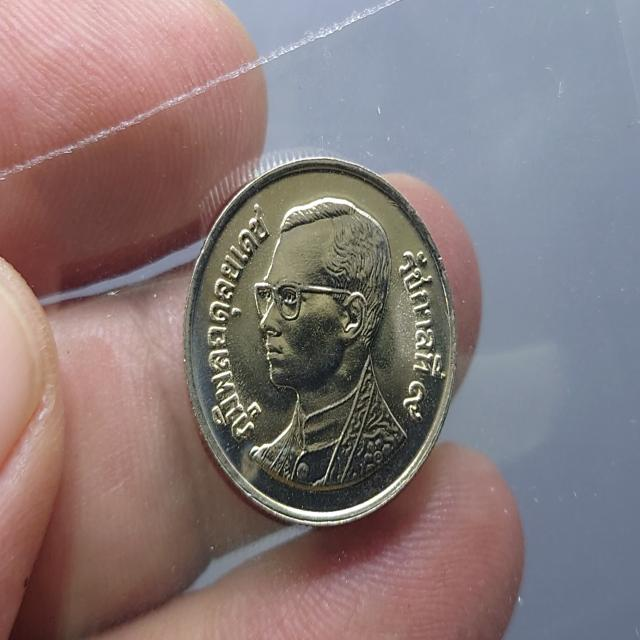1 Bath: (181, 154, 466, 540)
